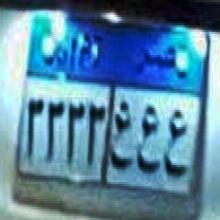3: (85, 94, 107, 167), (65, 97, 85, 167), (45, 94, 64, 164), (26, 93, 44, 161)
ain: (163, 104, 189, 188), (134, 96, 160, 178), (110, 96, 132, 176)
